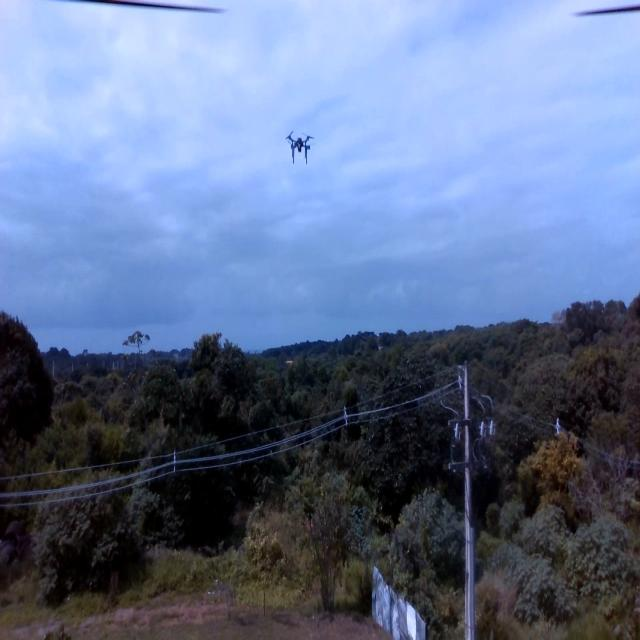-uav-: (280, 117, 320, 175)
